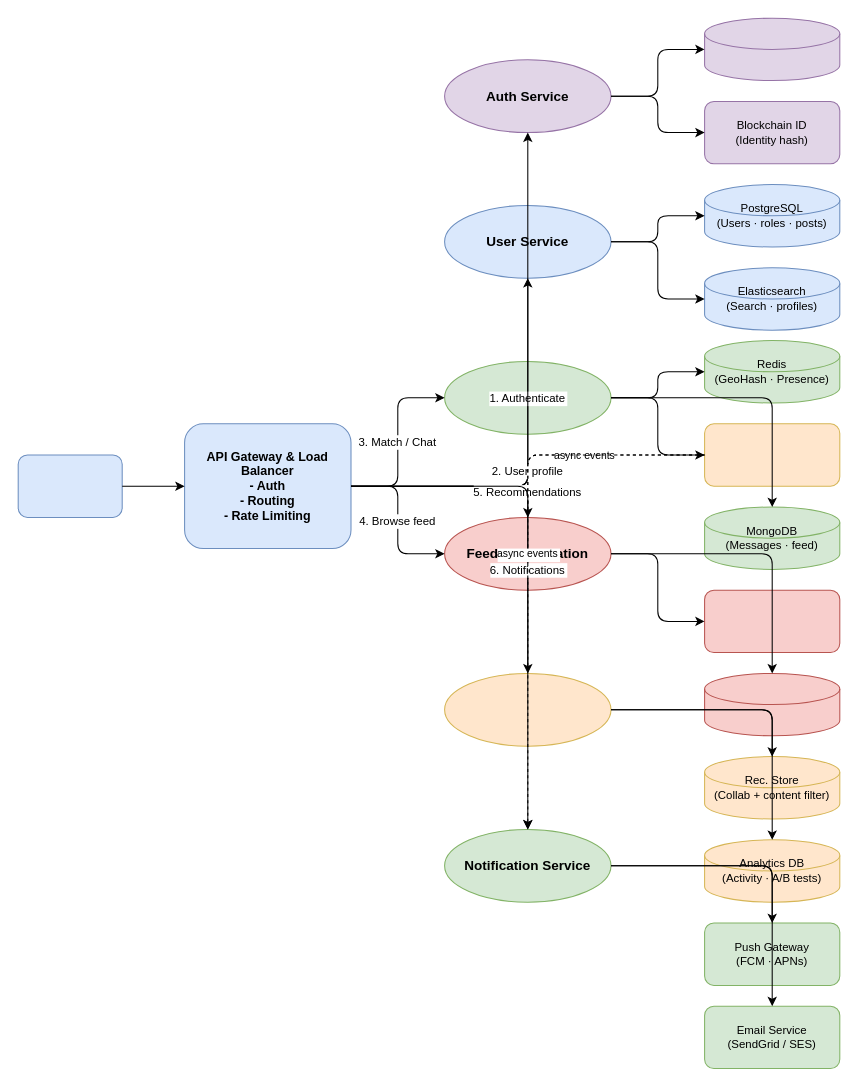
Image size: 858x1087. Some labels were removed from this diagram. The box of each missing label's shape, as (x1, y1, x2, y2) in pixels:
AI Moderation API (Toxicity filter): (704, 589, 840, 653)
Kafka Queue (Chat · match events): (704, 423, 840, 486)
Match & Chat Service: (444, 360, 611, 434)
Post DB (Anon posts · reports): (704, 672, 840, 736)
Recommendation Engine: (444, 672, 611, 746)
Redis Cache (Sessions / JWT): (704, 17, 840, 81)
Users: (17, 454, 122, 517)
